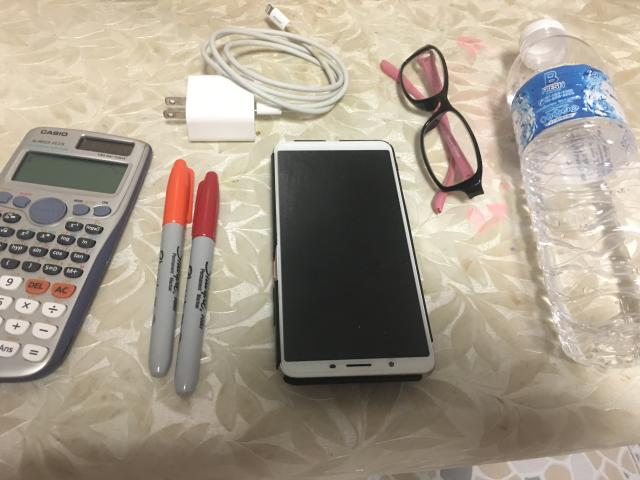Glasses: (381, 45, 482, 212)
Mobile phone: (272, 141, 435, 385)
Pen: (175, 171, 220, 398), (149, 159, 194, 378)
bottle: (508, 20, 640, 368)
wire: (164, 5, 349, 141)
